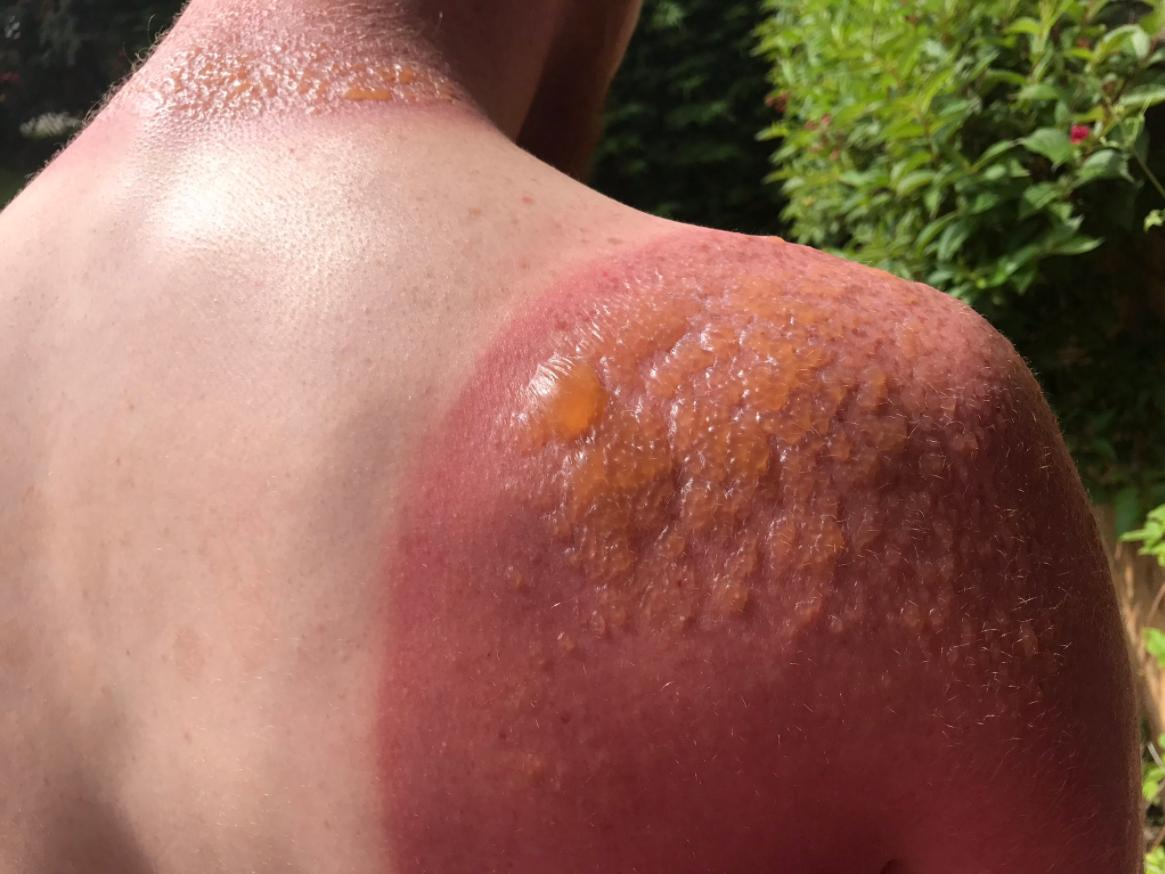burned-skin: (472, 230, 1090, 874), (112, 50, 461, 144)
